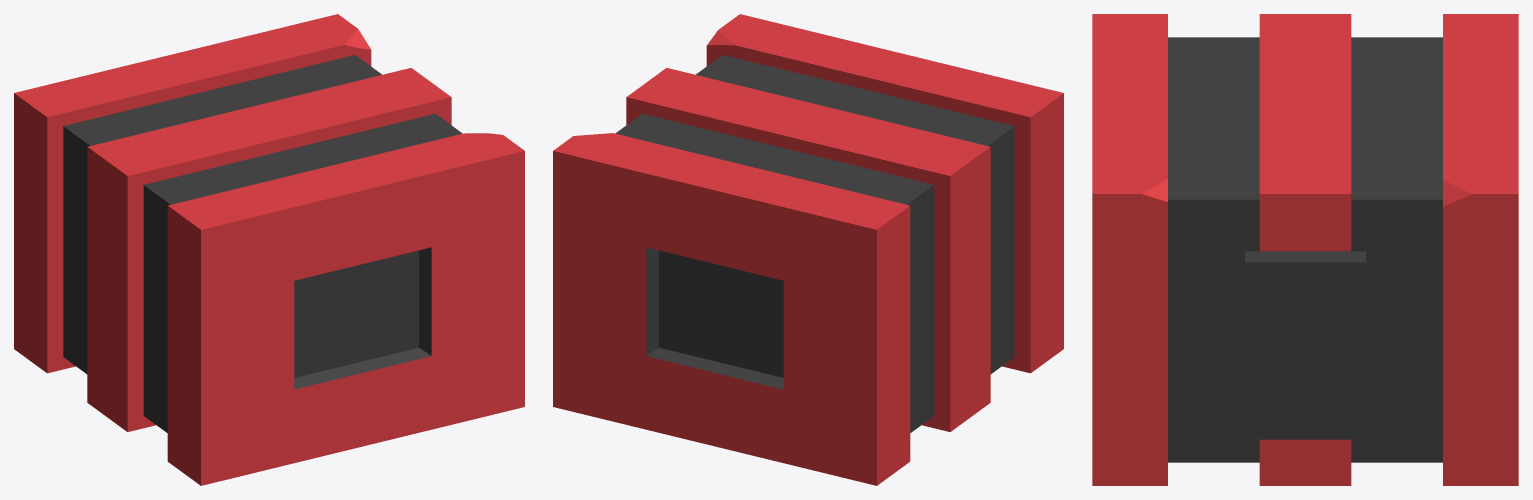
File: FuelBox.fbx
The picture shows the model from 3 angles, left to right: view 1: azimuth 30°, elevation 25°; view 2: azimuth 150°, elevation 25°; view 3: azimuth 270°, elevation 25°; orthographic projection. The views are drawn at different scales.
Visible parts, largest first — view 1: Box; view 2: Box; view 3: Box.
Part boxes in pixels (x1,y1,x2,y2): Box: [14, 14, 524, 485]; Box: [553, 14, 1063, 485]; Box: [1092, 14, 1518, 485].
Bounding box in the file's own units: 212 × 151 × 200.
